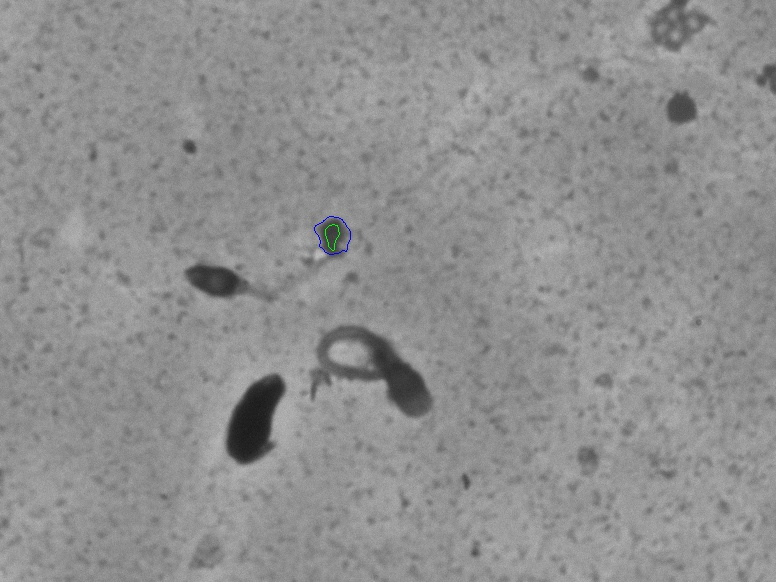Abnormal: (297, 303, 458, 439), (144, 218, 294, 333)
